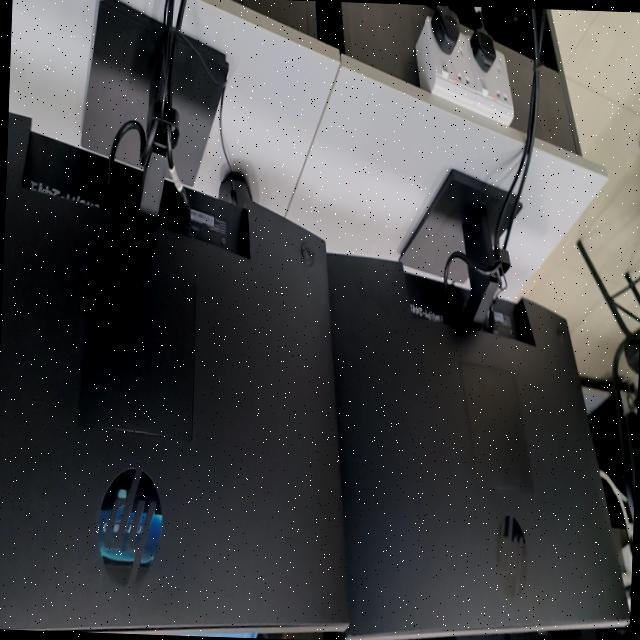Chair: (575, 240, 640, 518)
Cpu: (586, 390, 630, 528), (450, 5, 534, 47)
Monitor: (0, 113, 346, 636), (327, 168, 628, 639), (505, 624, 597, 640), (595, 622, 630, 640)
Mouse: (217, 171, 252, 208)
